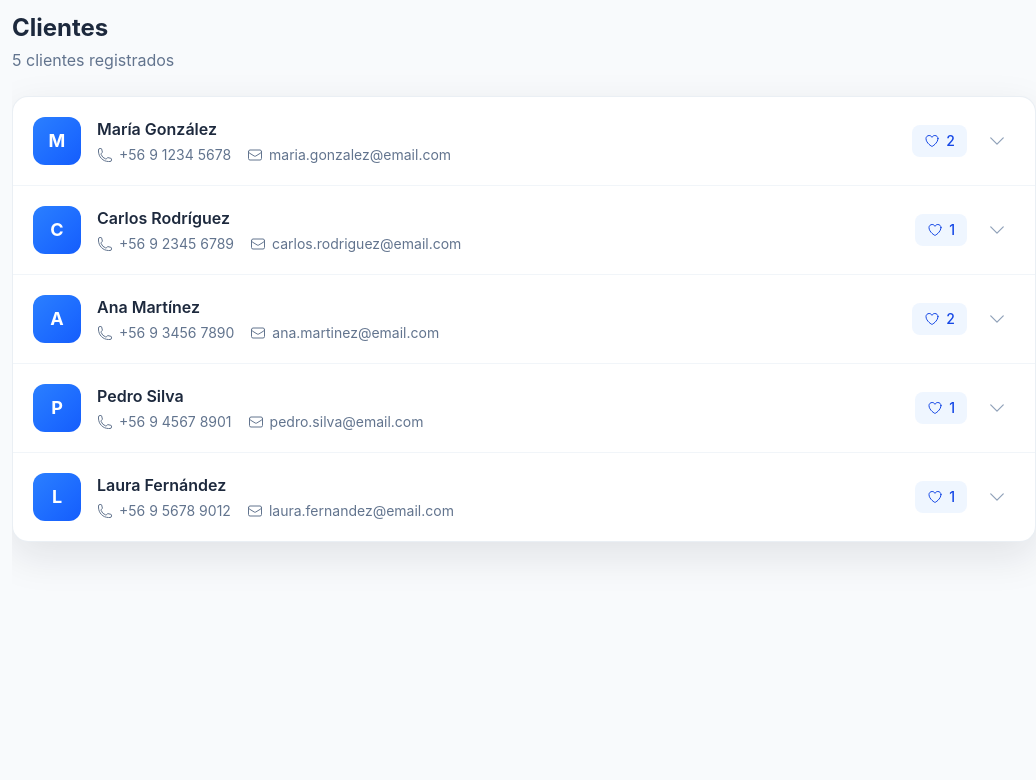
Test: ClientsPage › Interacción - Expandir cliente para ver mascotas › expande un cliente al hacer click y muestra sus mascotas
The image size is (1036, 780).
Expected: the heading "María González" is shown, [97, 119, 217, 139]
Note: Click en el primer cliente (María González tiene 2 mascotas: Max y Luna)
Step 1. Click the text "María González" → (57, 141), box [33, 117, 1015, 165]
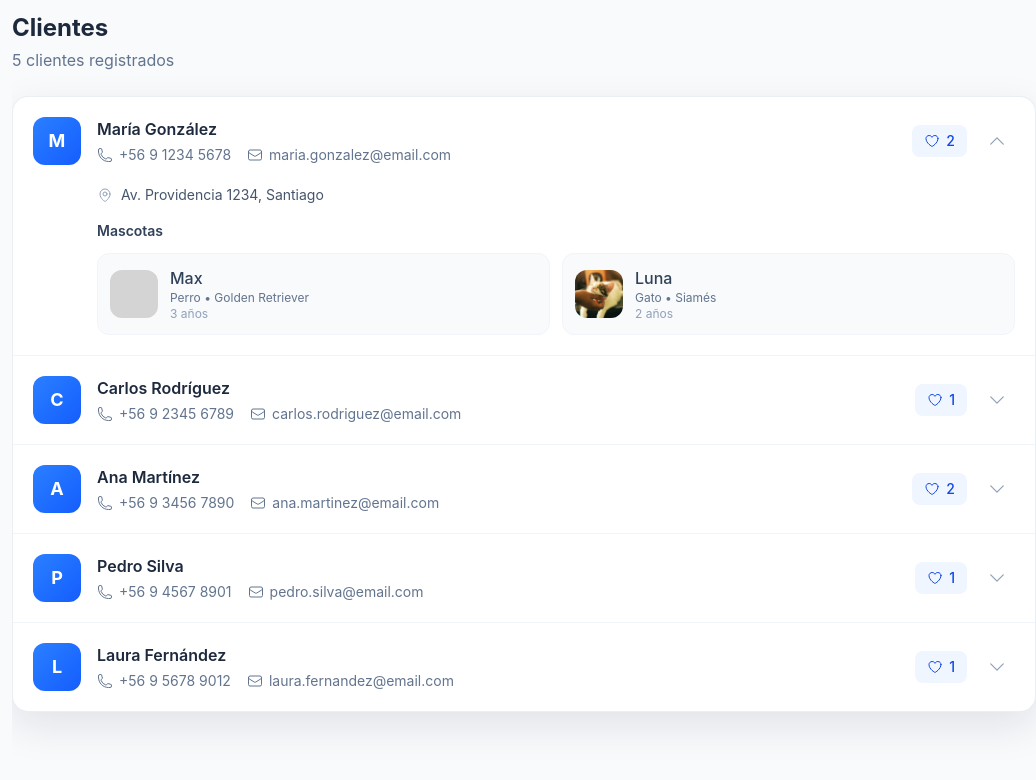
Expected: the text "Max" is shown, [170, 268, 203, 288]
Expected: the text "Luna" is shown, [635, 268, 672, 288]
